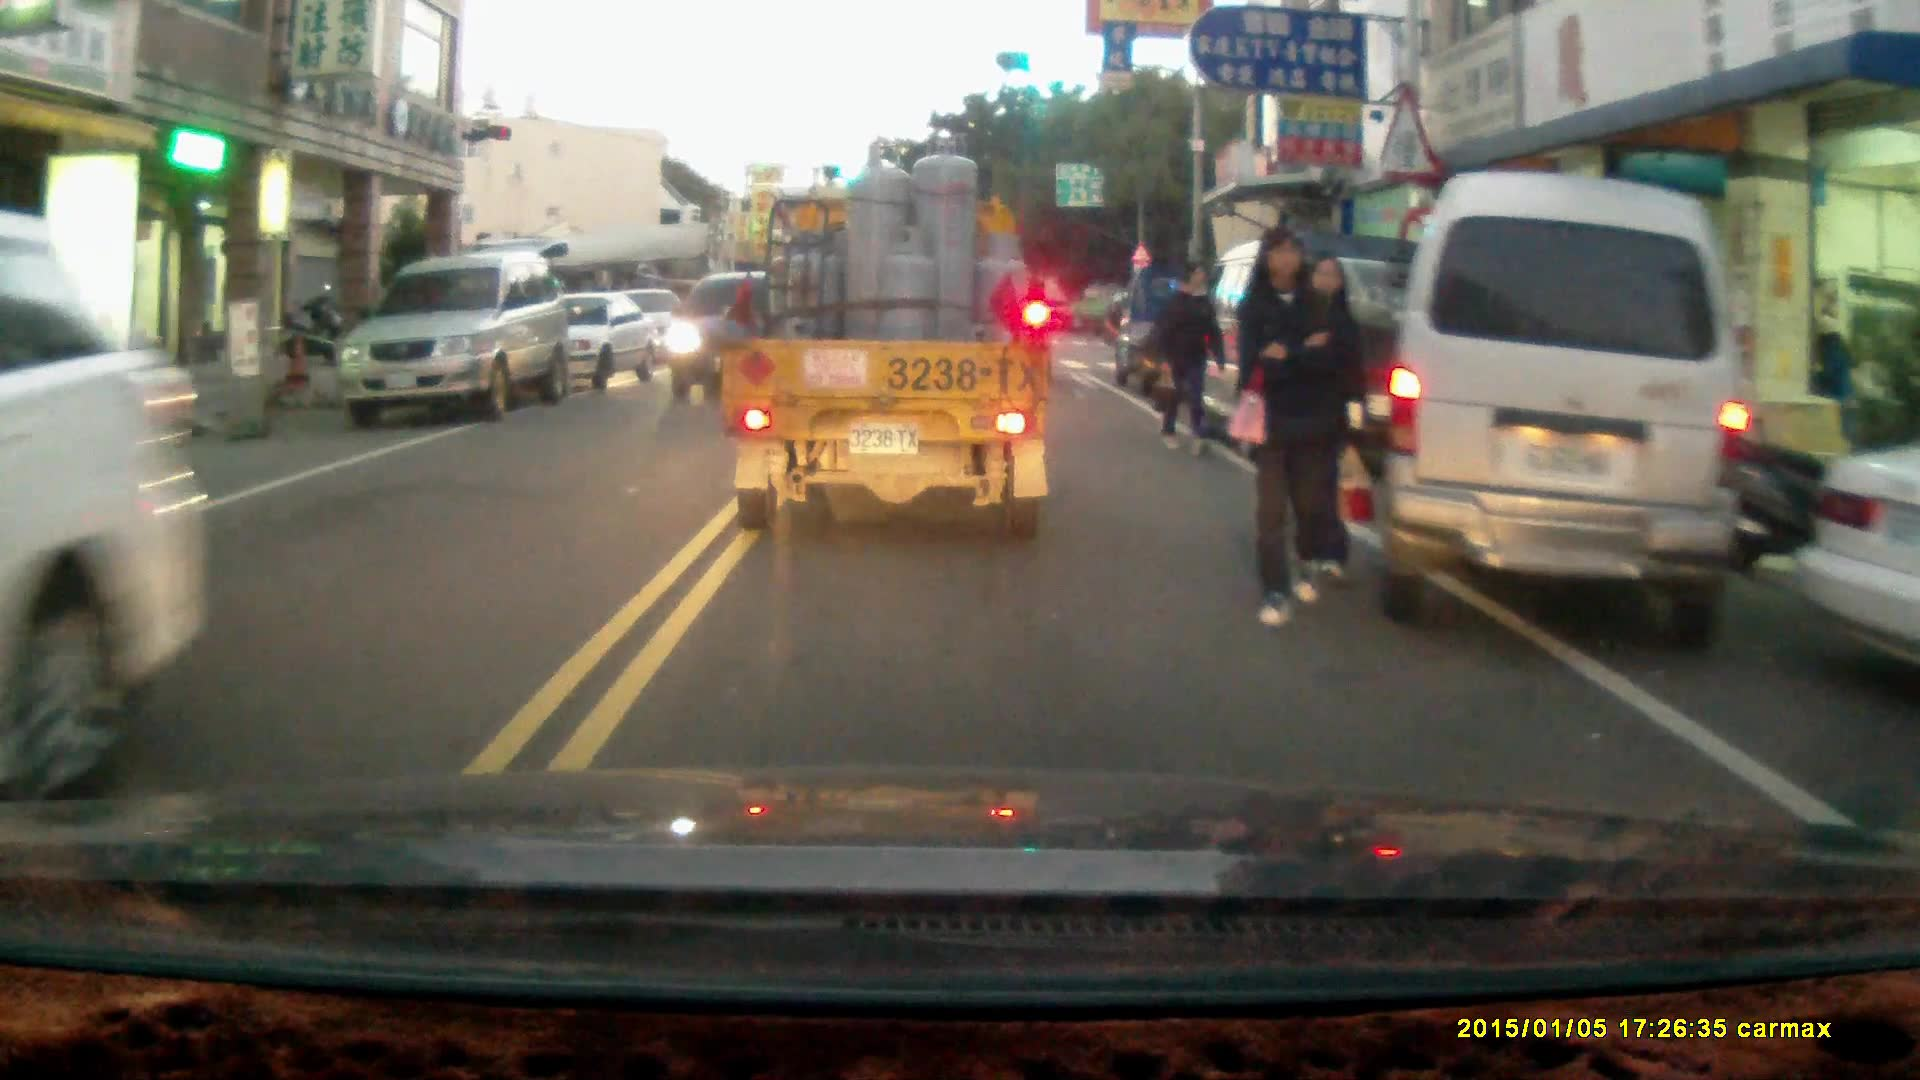pedestrian: (1237, 223, 1344, 627), (1153, 259, 1221, 461)
vehicle: (1376, 172, 1762, 650), (716, 130, 1054, 534), (1, 209, 210, 807), (1176, 222, 1469, 457), (341, 247, 576, 431), (1787, 443, 1920, 671), (666, 265, 822, 408), (507, 291, 663, 393)
